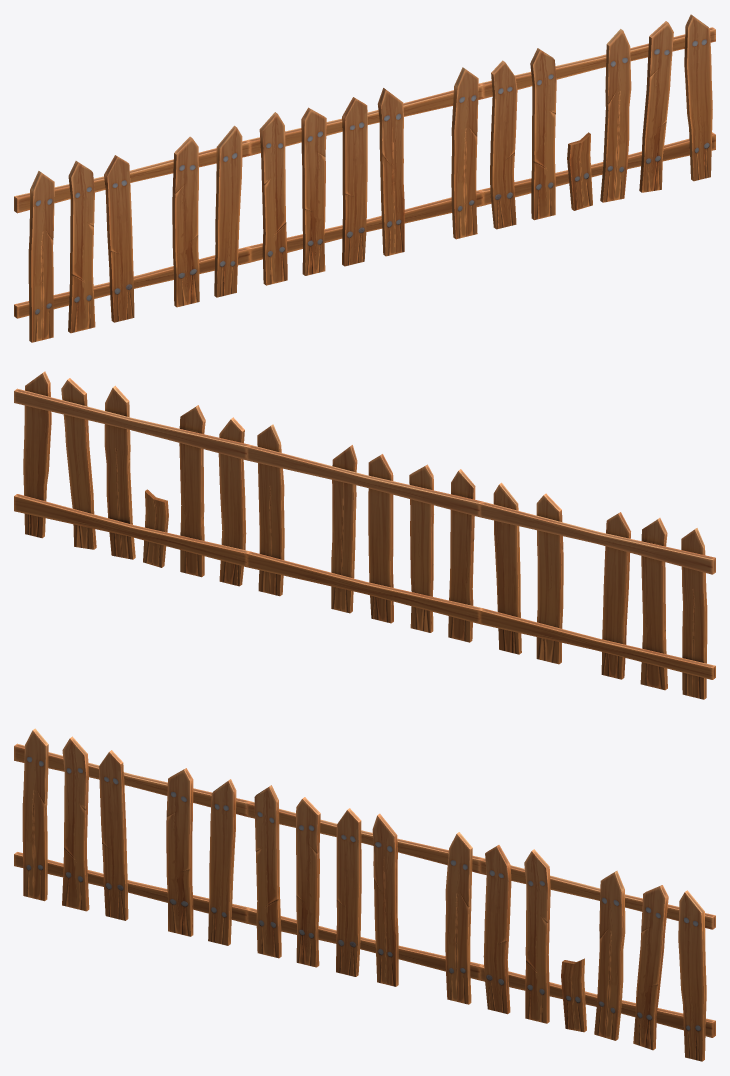
File: Fences02_4.FBX
3 renders of one model, top to bottom at view 1: azimuth 30°, elevation 25°; view 2: azimuth 150°, elevation 25°; view 3: azimuth 330°, elevation 25°, orthographic.
Parts seen in each view (by area): view 1: Fences02_4; view 2: Fences02_4; view 3: Fences02_4.
Part boxes in pixels (<box>): Fences02_4: <box>14,14,715,342</box>; Fences02_4: <box>14,371,715,699</box>; Fences02_4: <box>14,728,715,1061</box>.
Size of what is drawn, in the model's own units: 5.25 by 1.22 by 0.078.
